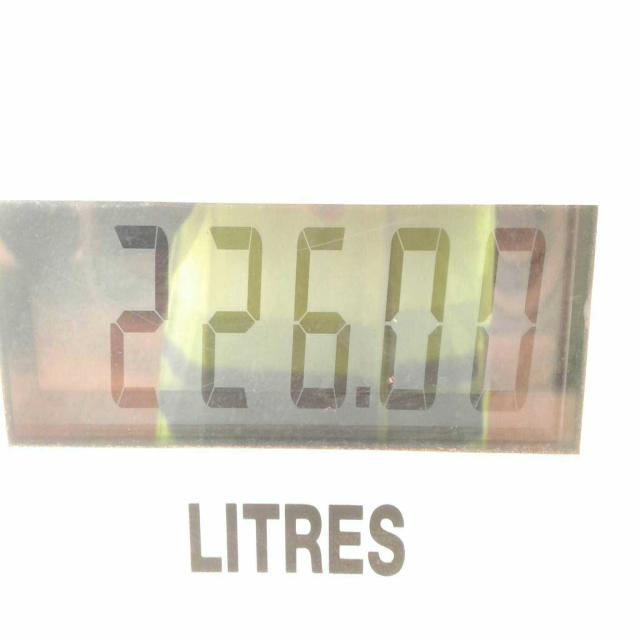.: (357, 389, 370, 412)
0: (475, 225, 547, 428), (380, 225, 444, 419)
2: (197, 225, 265, 420), (108, 227, 170, 413)
6: (290, 224, 351, 419)
